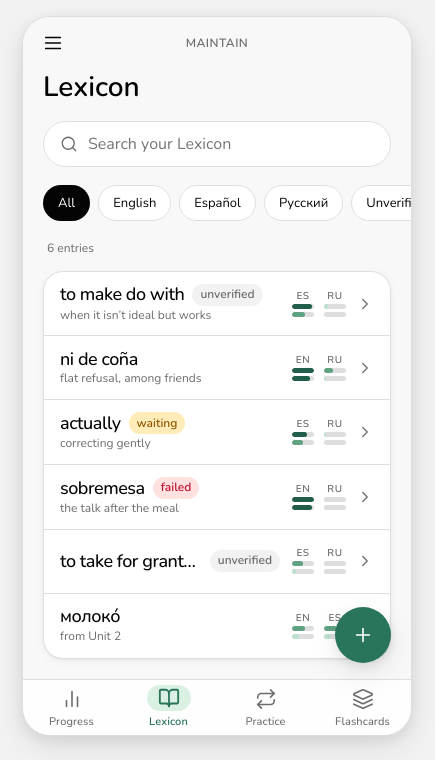
navigating › opens an entry from the Lexicon and comes back
This screenshot has width=435, height=760.
Click the button "to make do with" at [217, 304], box [44, 272, 390, 336]
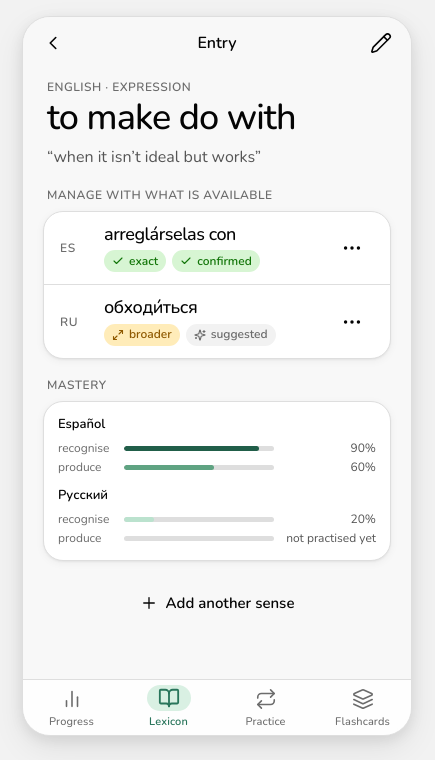
Expected: the heading "manage with what is available" is shown, [47, 189, 273, 201]
Click the button named "Back to your Lexicon" at [53, 43], box [31, 21, 75, 65]
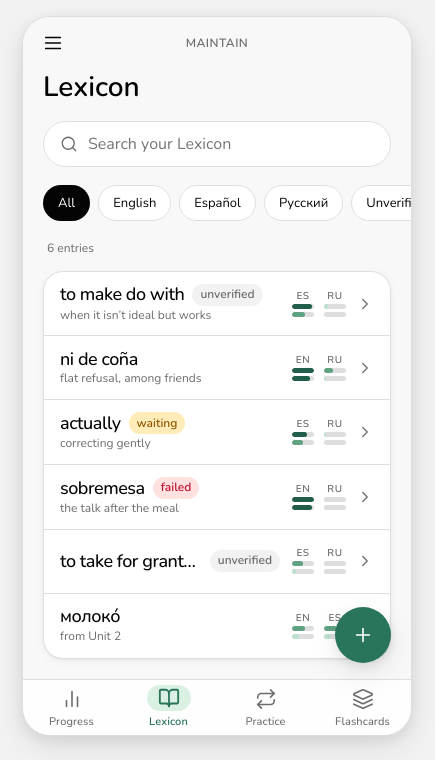
Expected: the heading "Lexicon" is shown, [43, 68, 140, 106]
